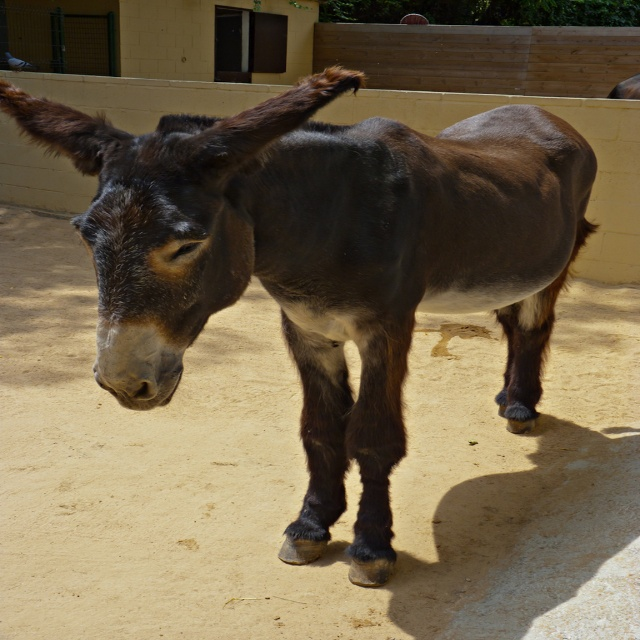Mule: (0, 70, 599, 585)
